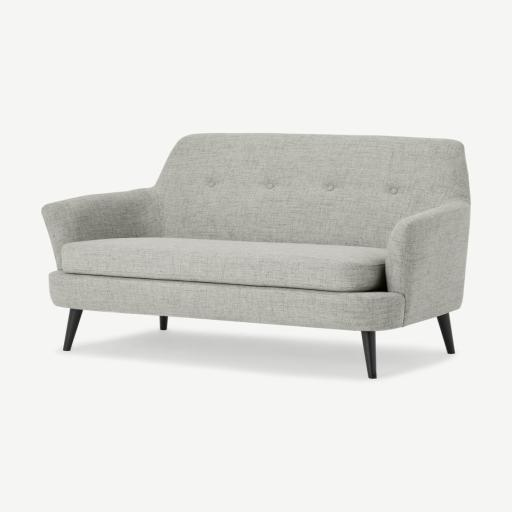back_cushion: (145, 133, 469, 248)
base: (50, 270, 403, 331)
left_arm: (385, 201, 469, 325)
legs: (63, 310, 82, 351), (361, 331, 375, 378), (438, 314, 454, 353), (160, 317, 167, 330)
one-seater: (0, 0, 511, 512)
right_arm: (42, 188, 161, 270)
seat_cushion: (63, 237, 386, 292)
